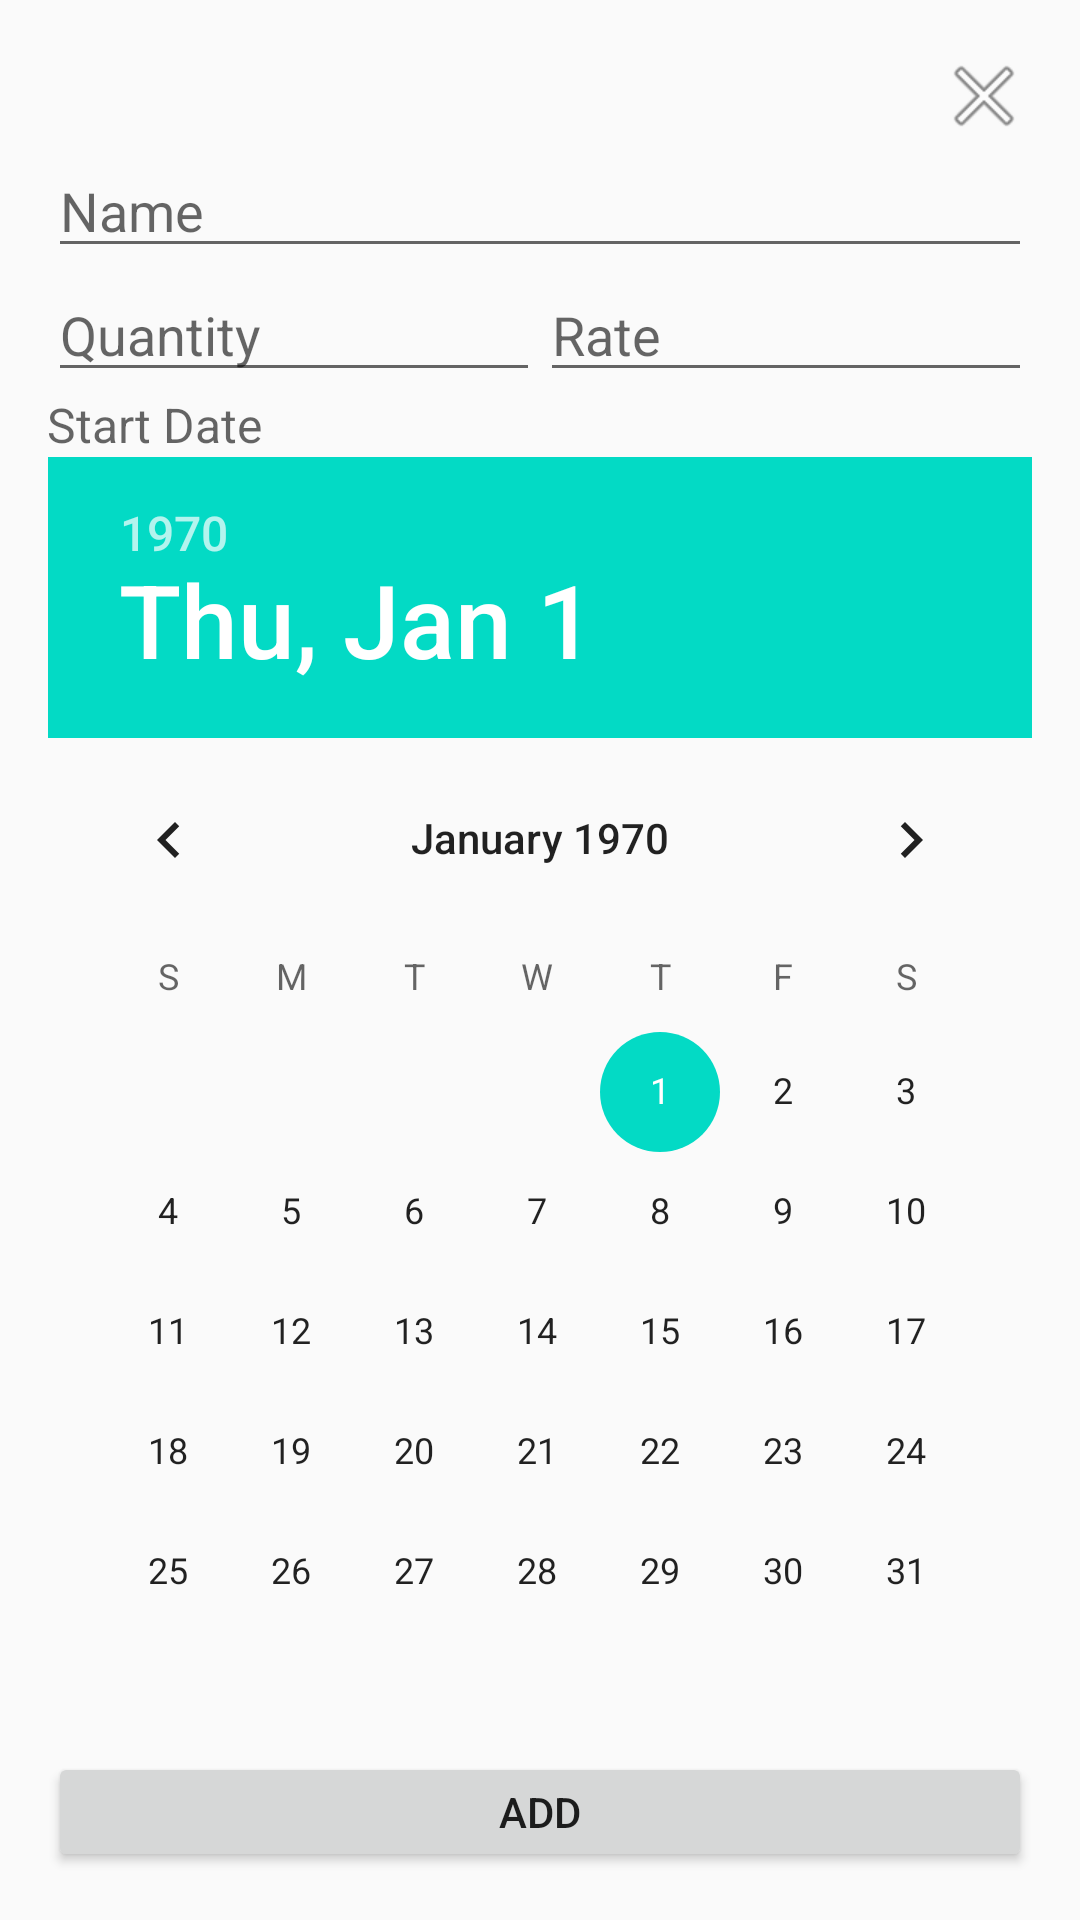

Point at icon controls on the screen. Image size 1080 x 1920, points as (x,y).
close clear cancel: (984,96)
